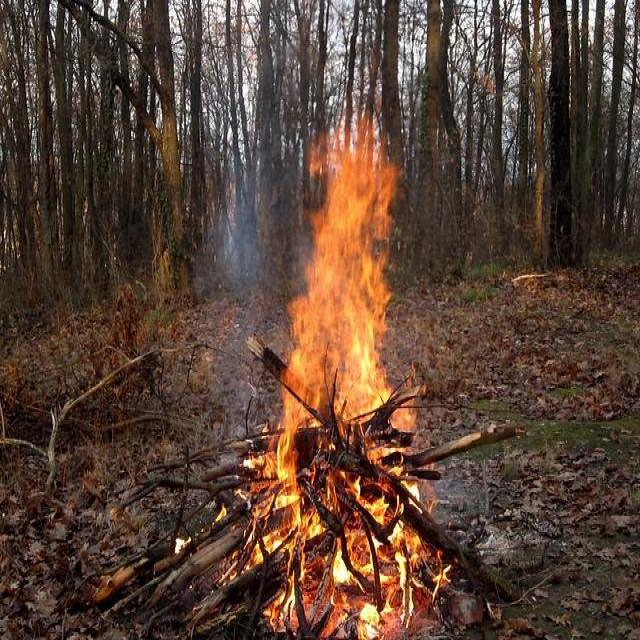fire: (212, 102, 444, 640)
